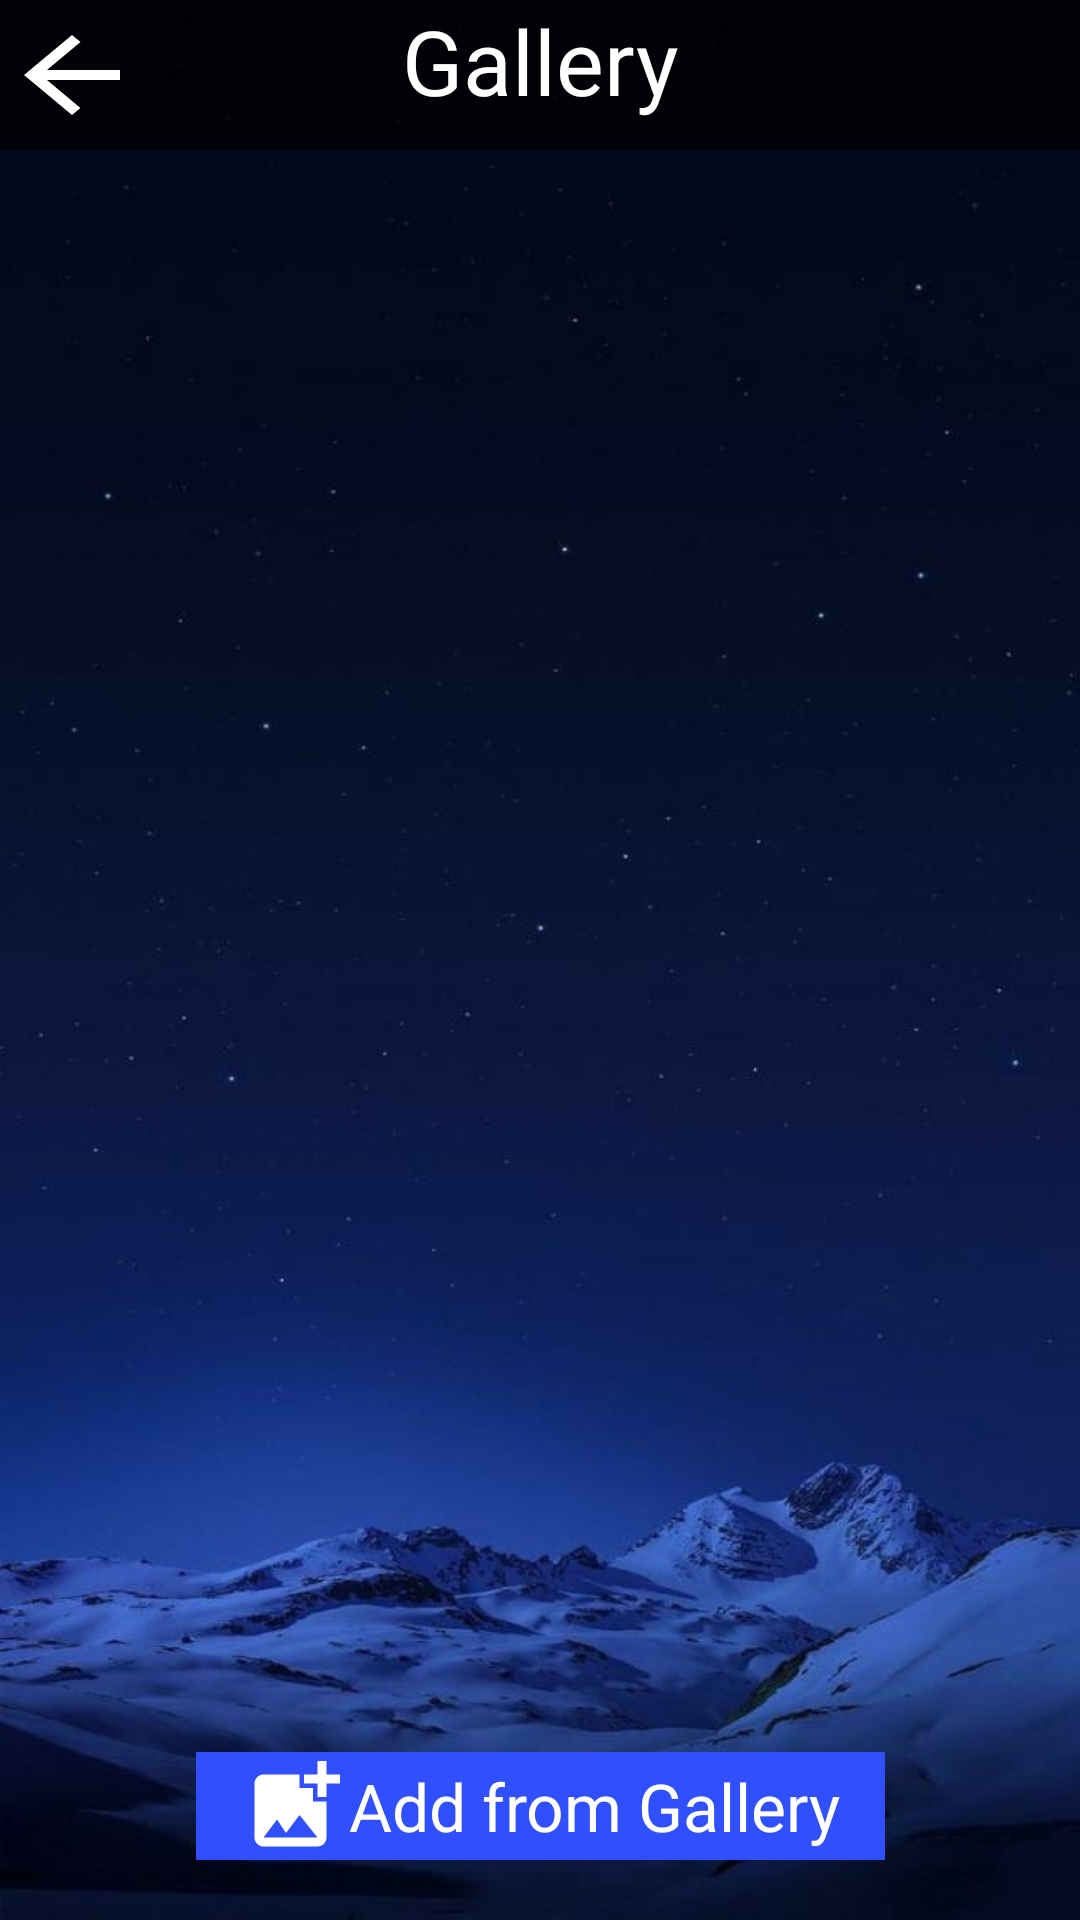

Screen size 1080x1920. Icon name, then its center in pixels as [x,y]:
arrow back: [72,75]
